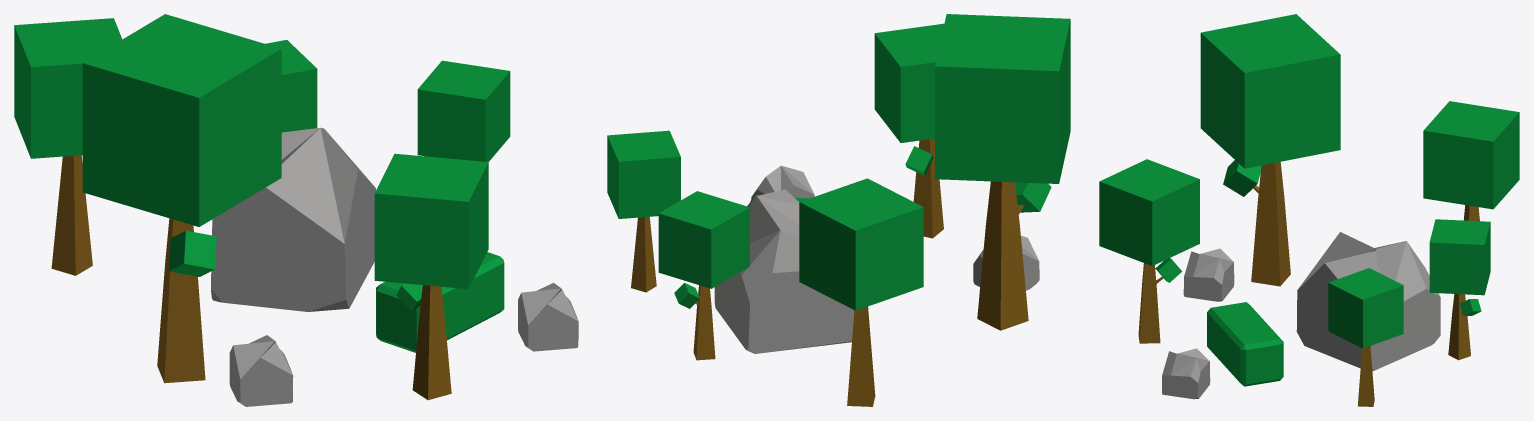
The model's file is forest-details-2.fbx.
3 renders of one model, left to right at view 1: azimuth 30°, elevation 25°; view 2: azimuth 150°, elevation 25°; view 3: azimuth 270°, elevation 25°, orthographic. The views are drawn at different scales.
Visible parts, largest first — view 1: forest-details-2; view 2: forest-details-2; view 3: forest-details-2.
Boxes of the visible parts, x1=… form: forest-details-2: x1=14, y1=14, x2=578, y2=406; forest-details-2: x1=607, y1=14, x2=1070, y2=406; forest-details-2: x1=1099, y1=14, x2=1519, y2=406.
Bounding box in the file's own units: 0.8935 × 0.5733 × 0.9302.
